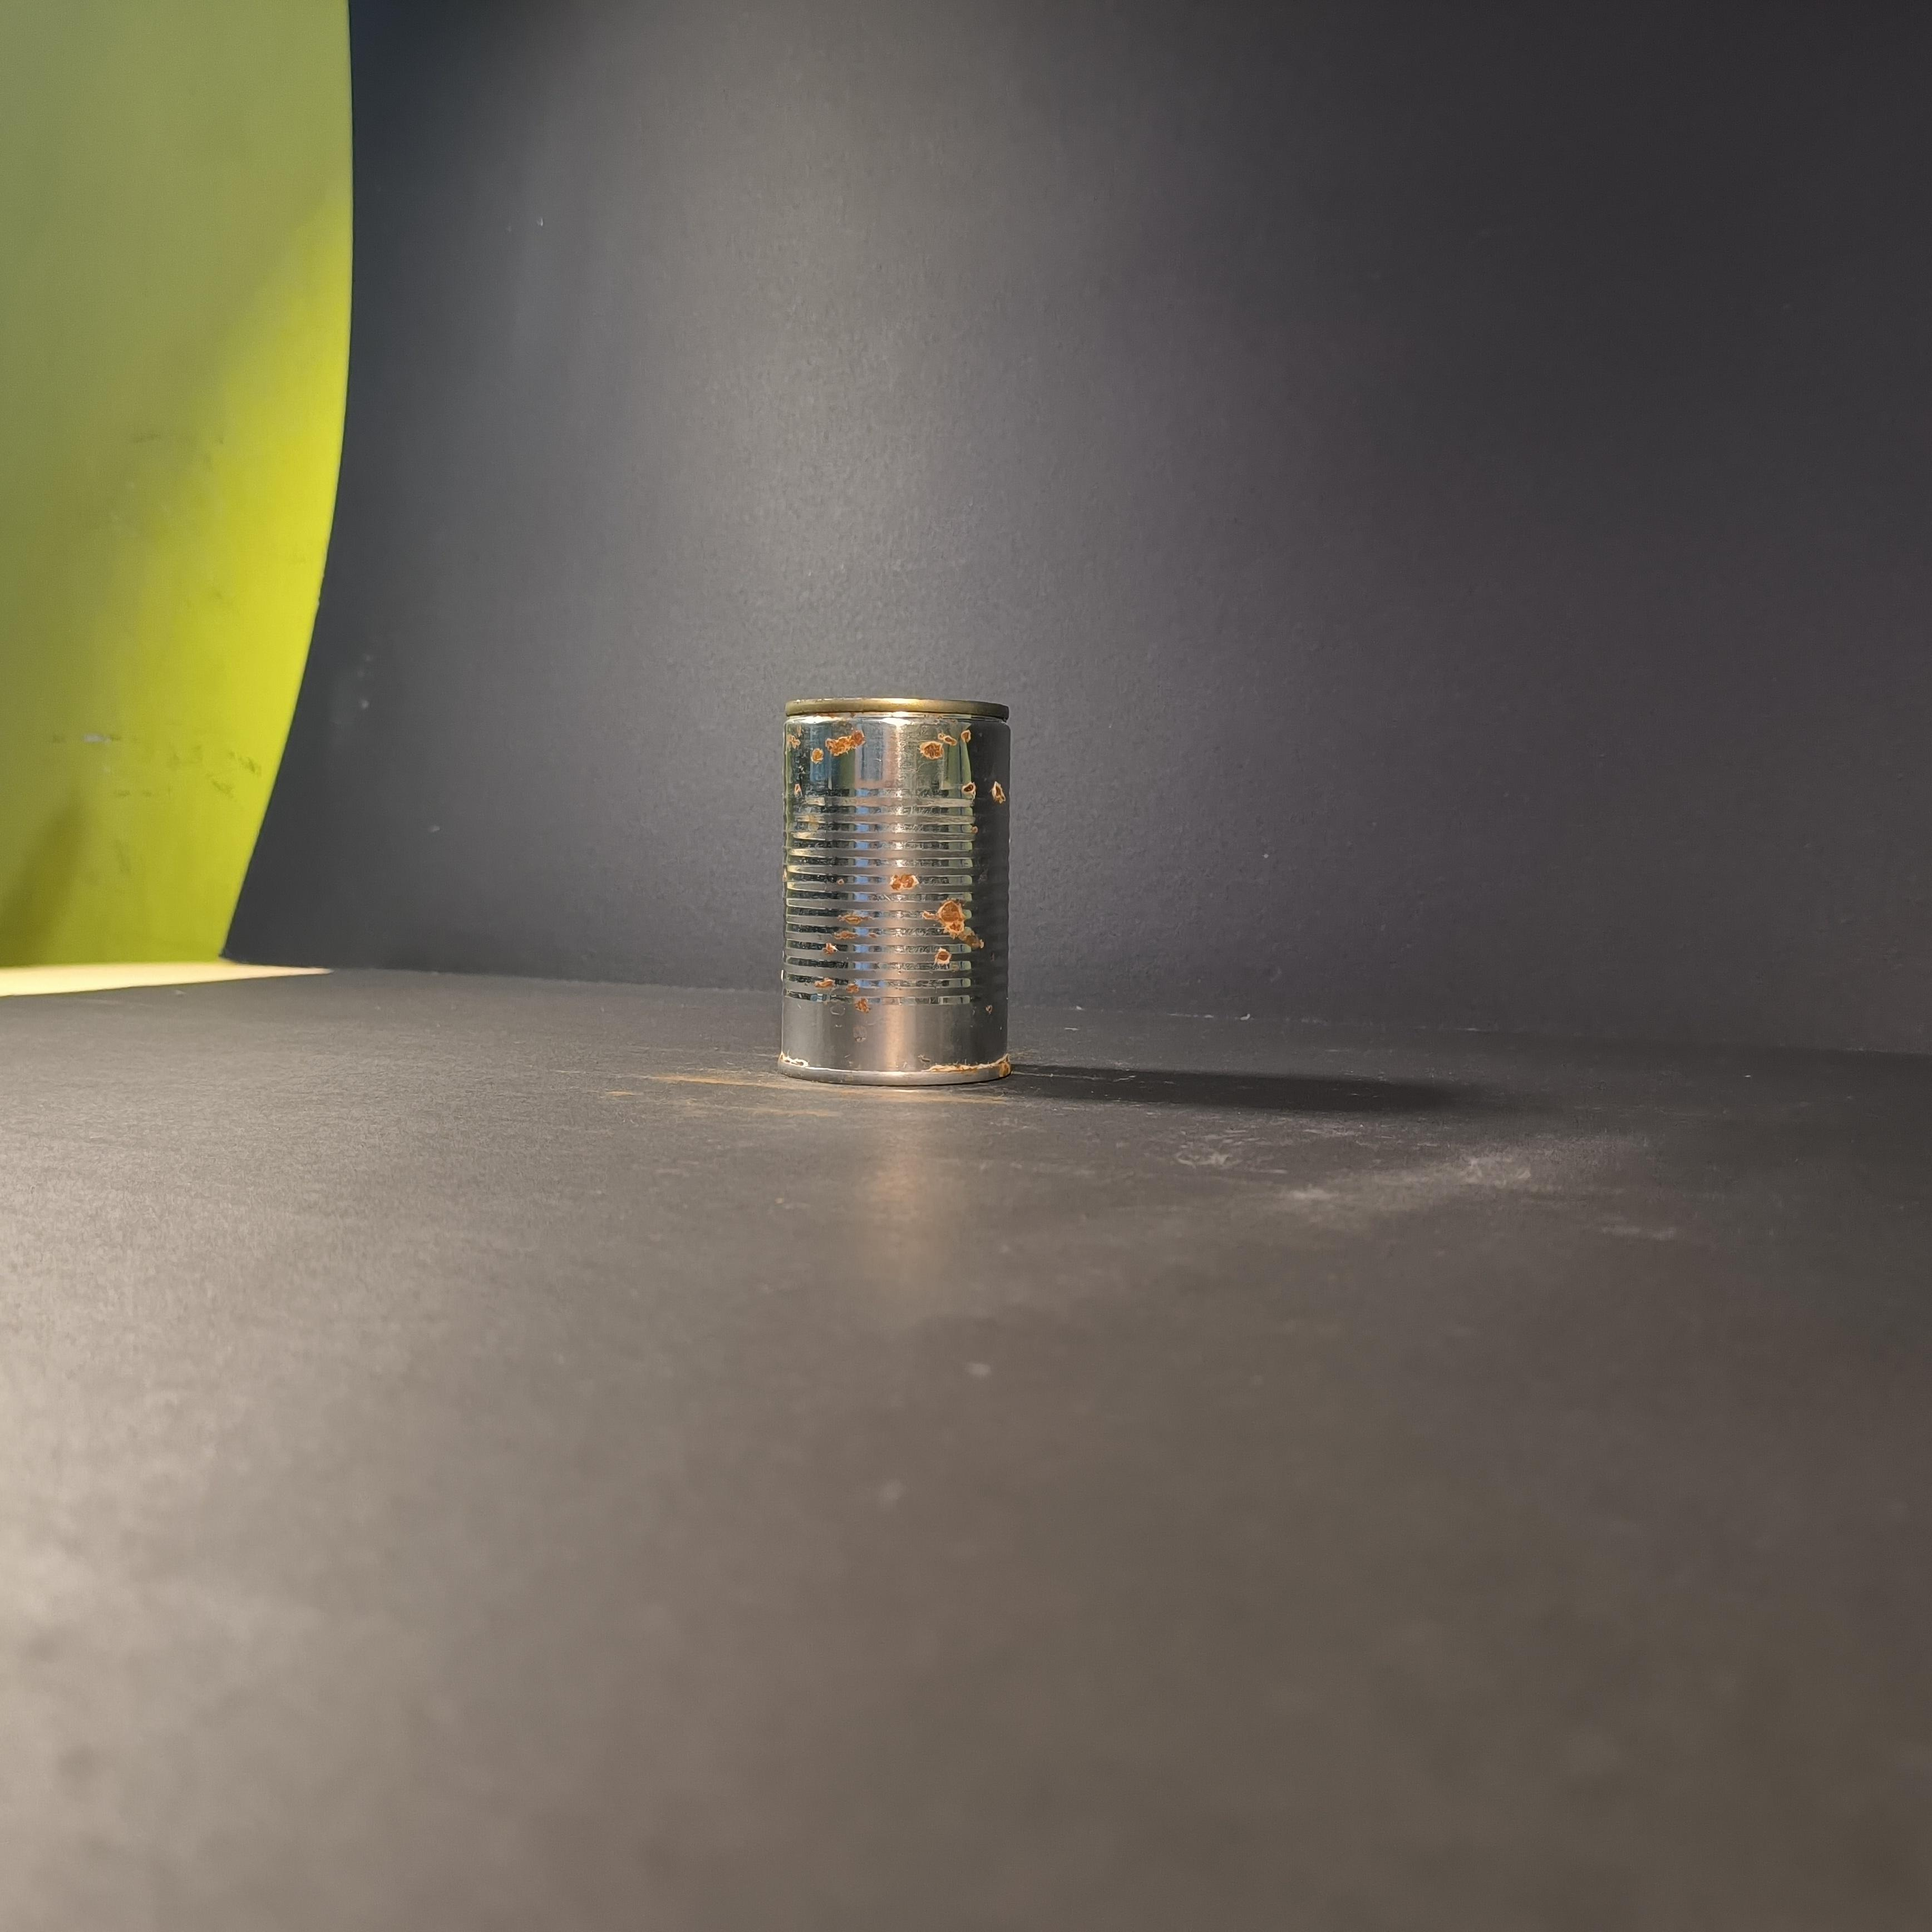Rusted: (779, 671, 1021, 1099)
